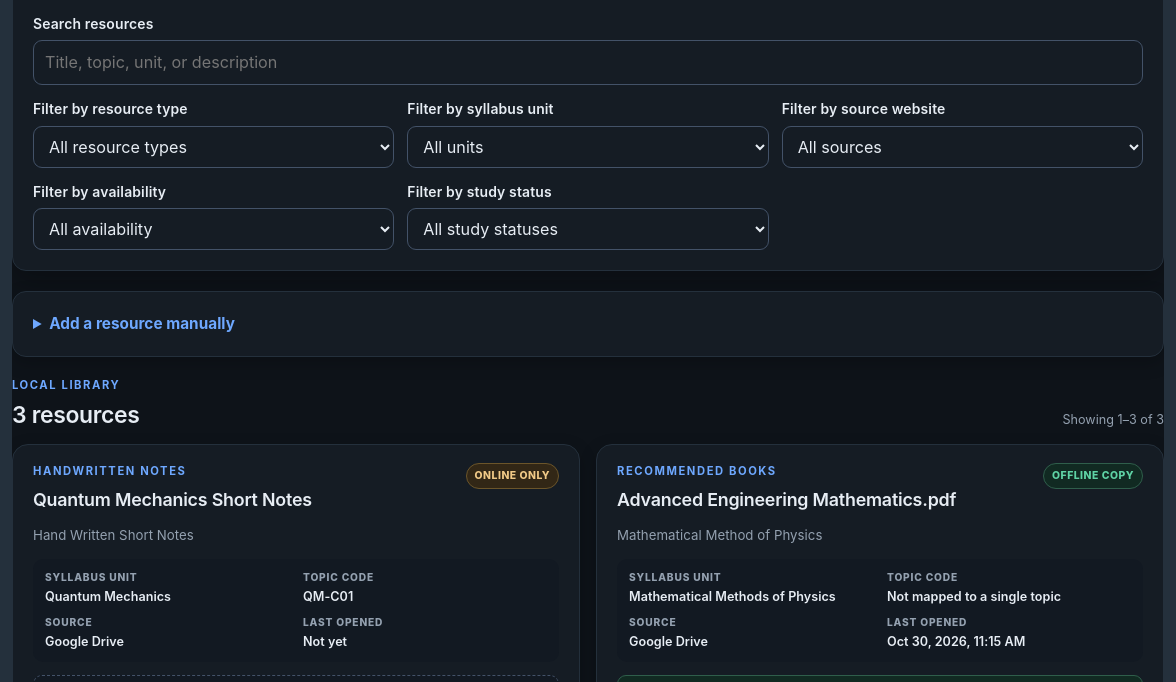
study resources screen › adds a manual resource through the form
(page scrolled)
Expected: the heading "Quantum Mechanics Short Notes" is shown, left=33, top=488, right=312, bottom=513
Click the heading "Add a resource manually" at (142, 324), box left=49, top=314, right=235, bottom=333
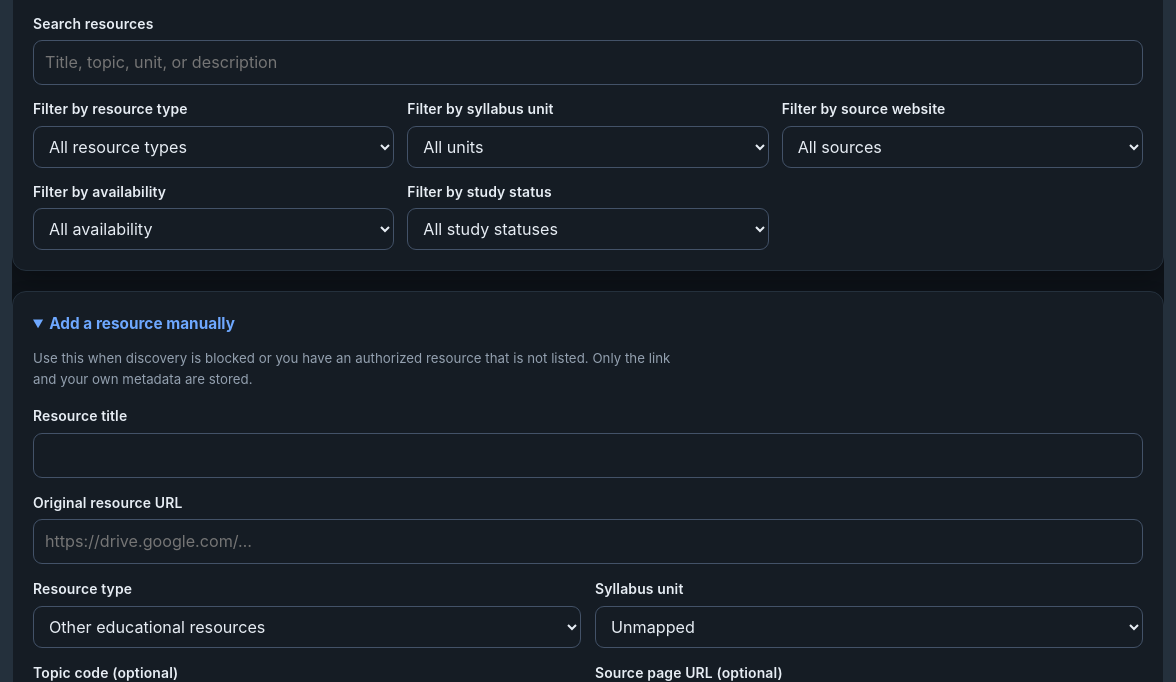
Type "Manual formula sheet" into the field labelled "Resource title" at (588, 455), box left=33, top=433, right=1143, bottom=478
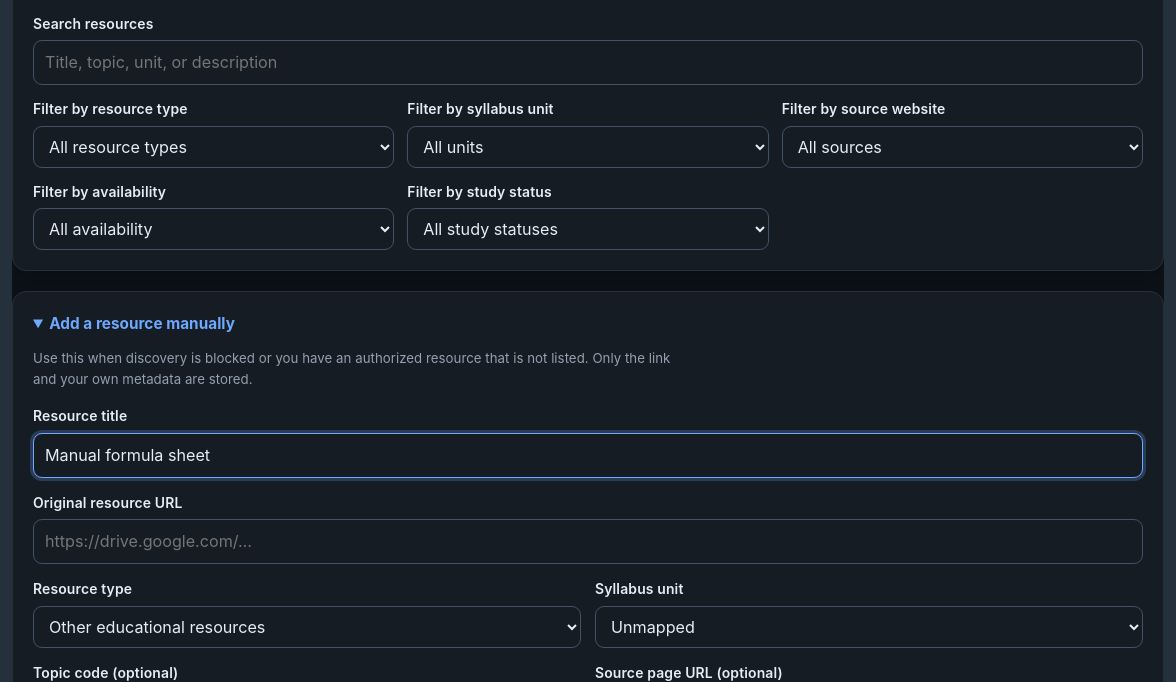
Type "https://example.com/formula.pdf" into the field labelled "Original resource URL" at (588, 542), box left=33, top=519, right=1143, bottom=564
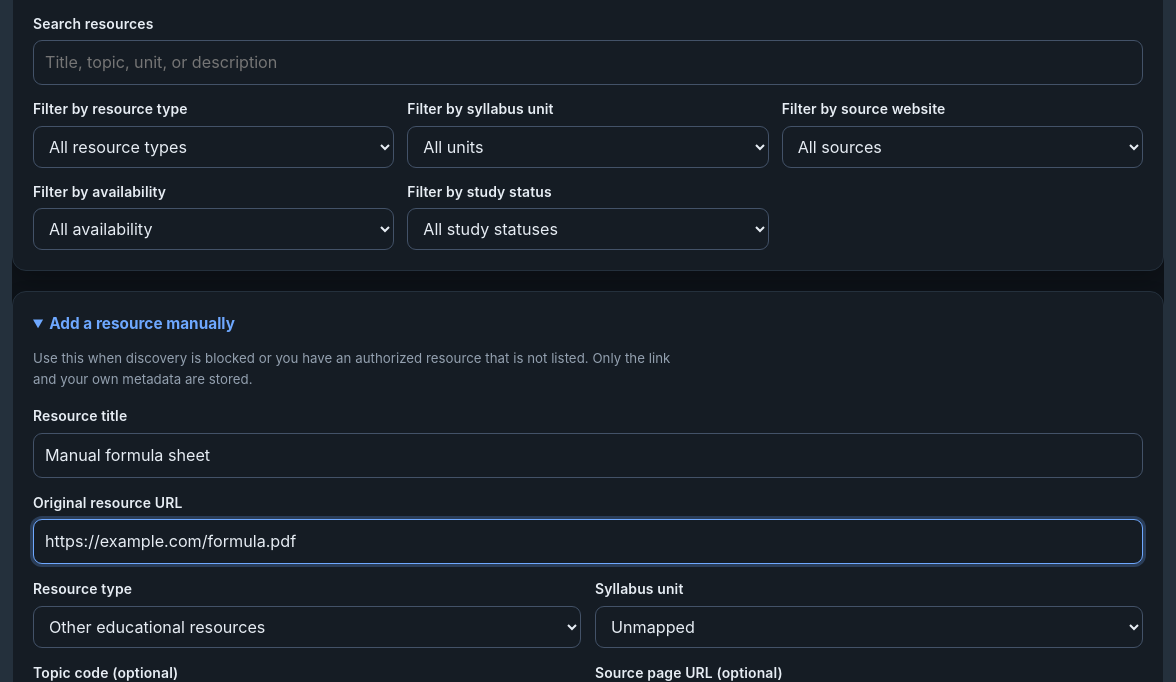
Select "Formula sheets" in the dropdown labelled "Resource type" at (307, 627), box left=33, top=606, right=581, bottom=648
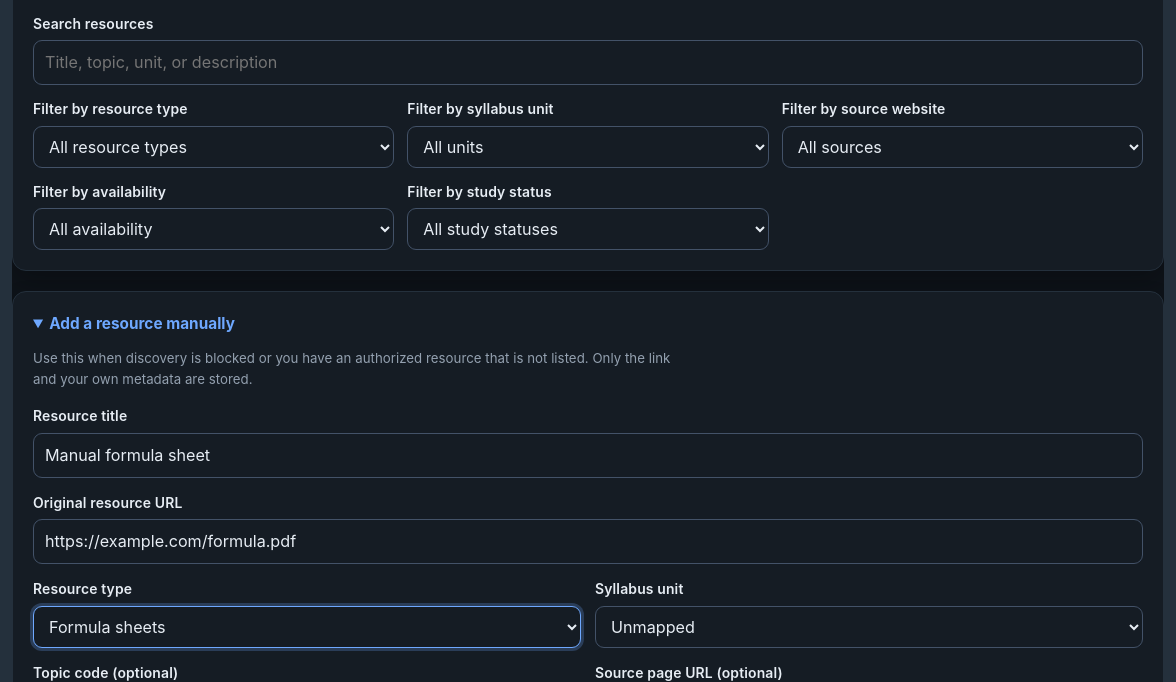
Select "Mathematical Methods of Physics" in the dropdown labelled "Syllabus unit" at (869, 627), box left=595, top=606, right=1143, bottom=648
(page scrolled)
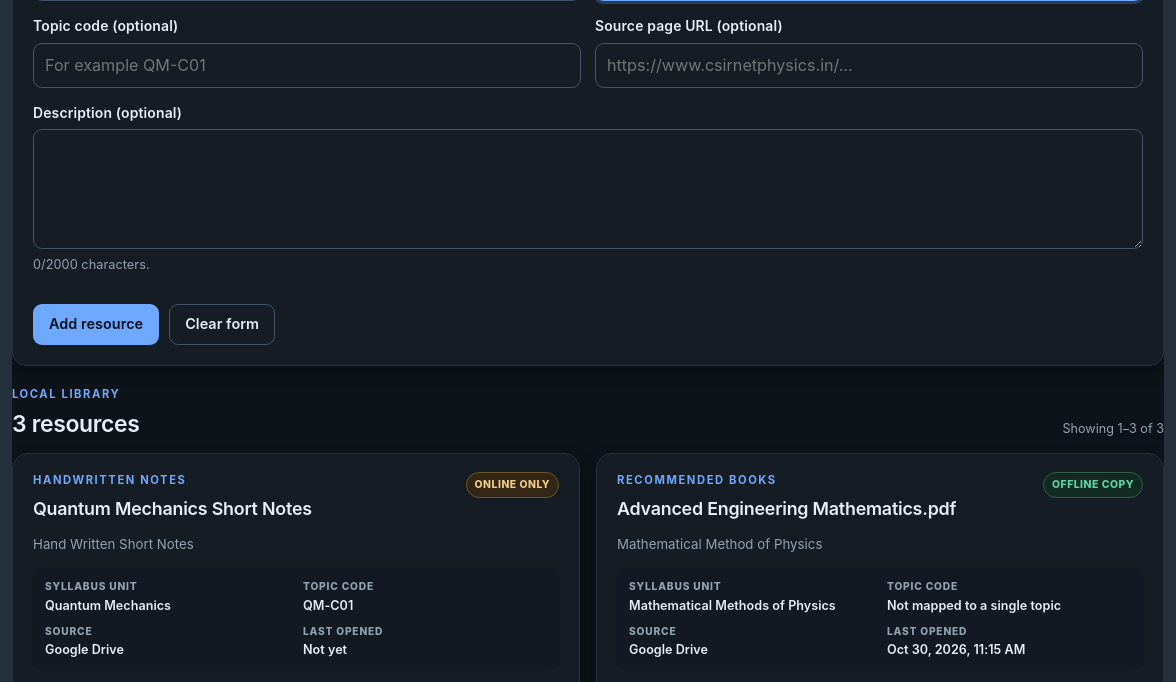
Click the button "Add resource" at (96, 324), box left=33, top=304, right=159, bottom=345
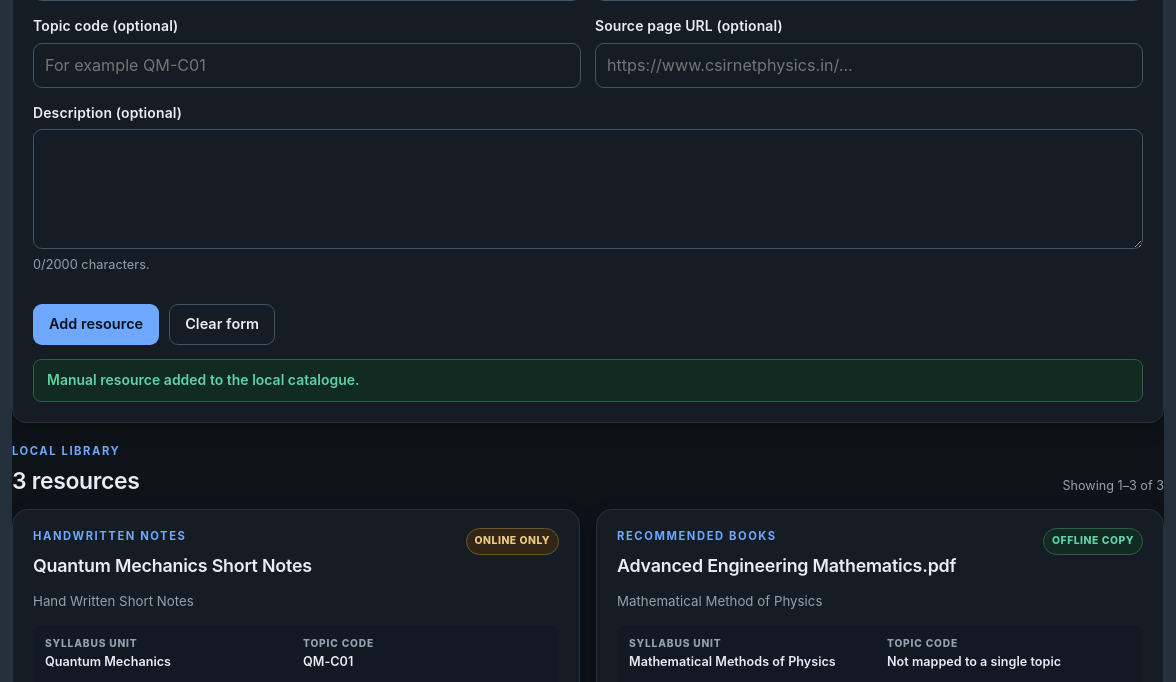
Now the text "Manual resource added to the local catalogue." is shown, box left=33, top=359, right=1143, bottom=402
